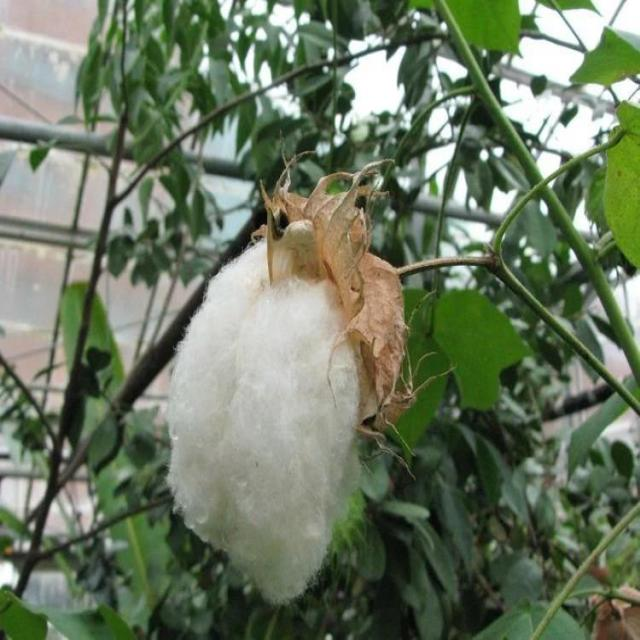Late_blight: (162, 180, 400, 607)
